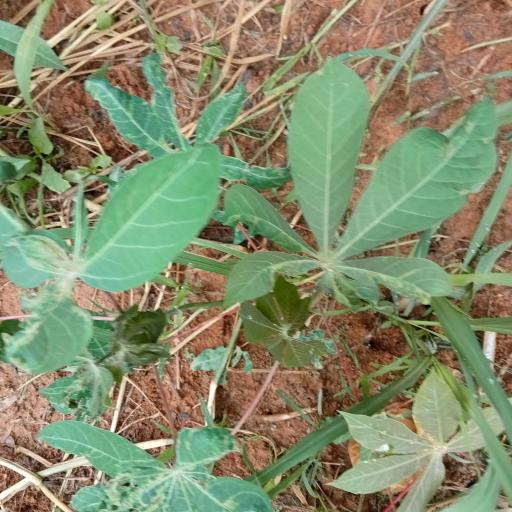Cassava_Mosaic: (10, 140, 218, 370), (42, 426, 272, 512)
